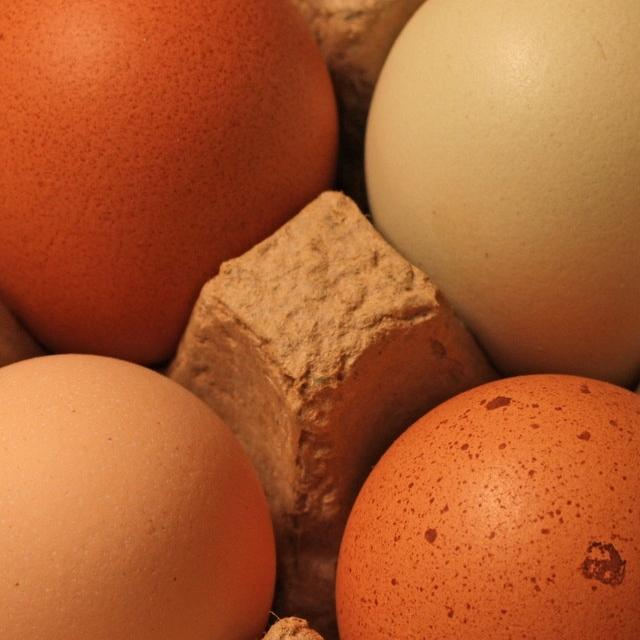egg: (0, 0, 309, 296), (334, 371, 640, 640), (0, 350, 277, 640)
